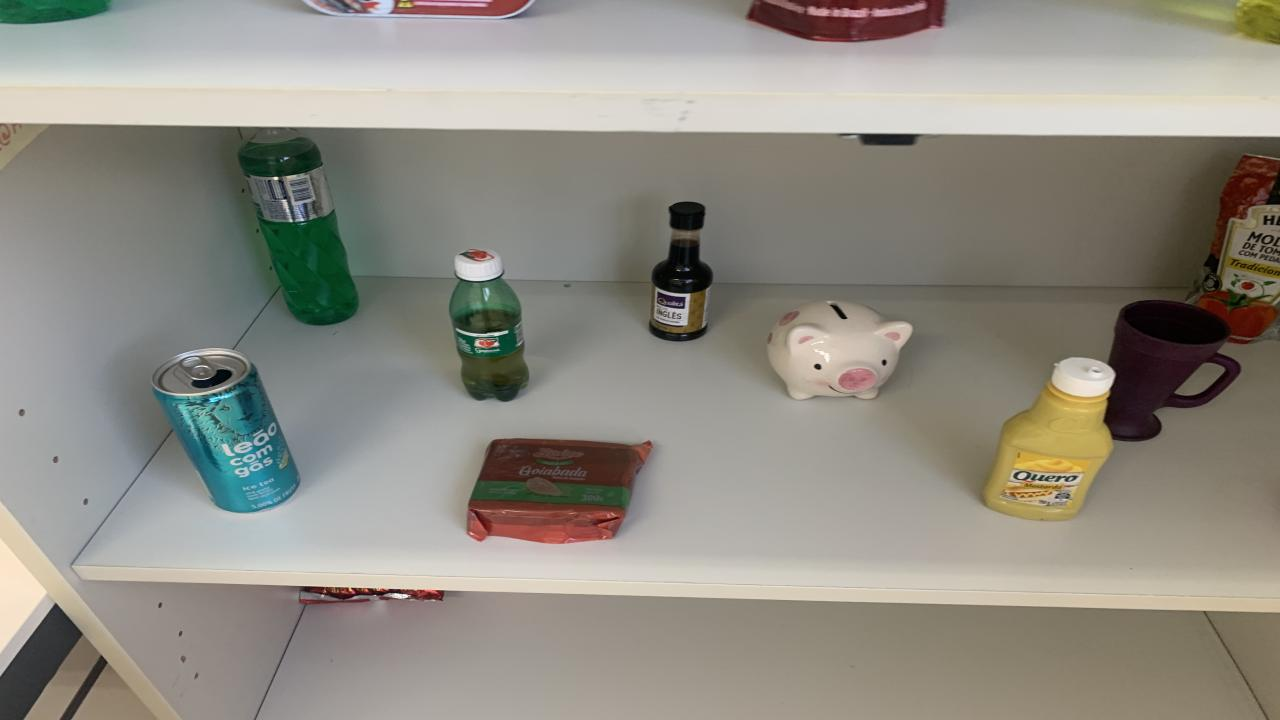Detergent-Cleanup_Items: (238, 128, 360, 324), (1235, 0, 1280, 43)
English_Sauce-Pantry_Items: (650, 202, 712, 341)
Guarana-Drinks: (450, 248, 528, 401)
Guava-Snacks: (468, 439, 652, 544)
Mustard-Pantry_Items: (982, 356, 1115, 521)
Pig_Safe-Miscellaneous: (768, 302, 912, 399)
Tea-Drinks: (152, 349, 300, 512)
Tomato_Sauce-Pantry_Items: (1190, 156, 1280, 343), (748, 0, 945, 41)
Tuna_Can-Pantry_Items: (305, 0, 535, 19)
